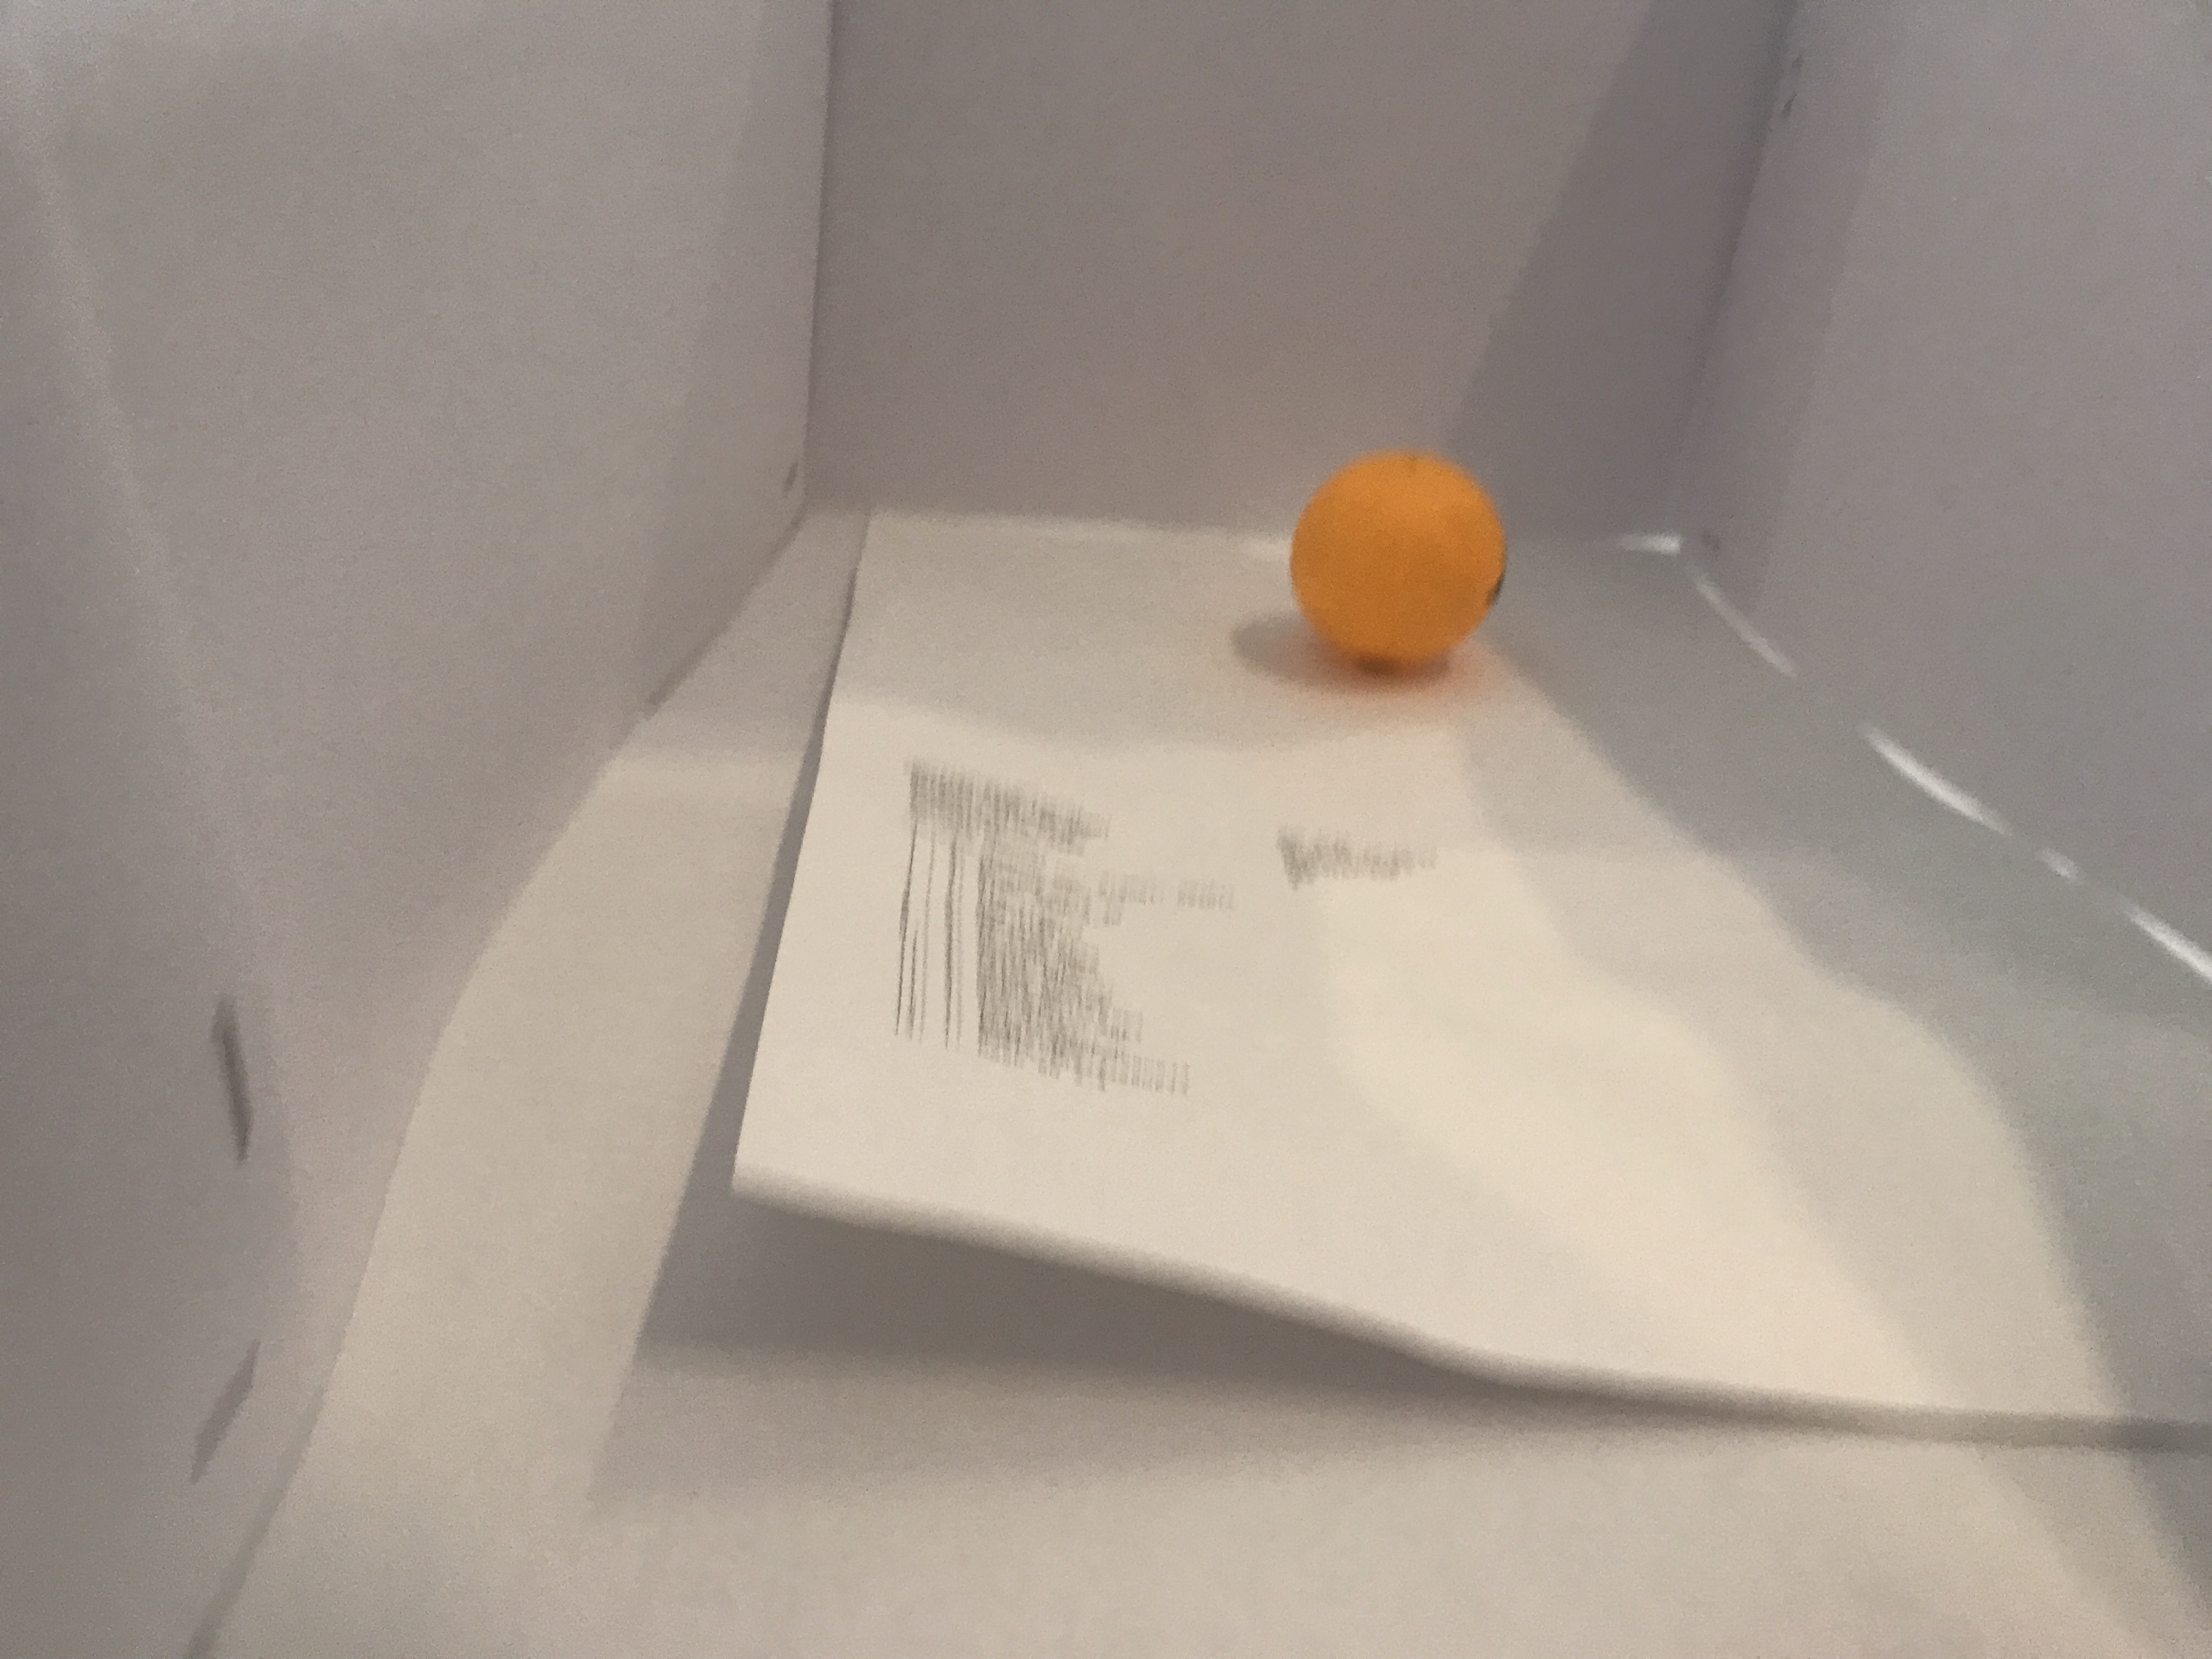pp: (1280, 448, 1522, 678)
